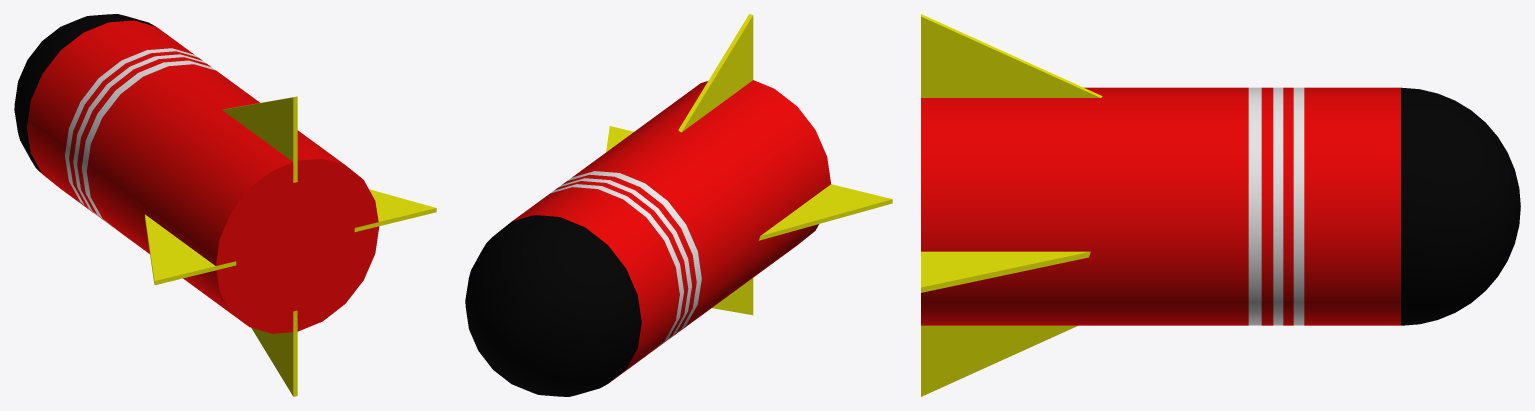
Rendered from missile.fbx.
The picture shows the model from 3 angles, left to right: view 1: azimuth 30°, elevation 25°; view 2: azimuth 150°, elevation 25°; view 3: azimuth 270°, elevation 25°; orthographic projection. The views are drawn at different scales.
Parts seen in each view (by area): view 1: group2_pasted__pPlane1; view 2: group2_pasted__pPlane1; view 3: group2_pasted__pPlane1.
Part boxes in pixels (bbox=[...]): group2_pasted__pPlane1: bbox=[14, 14, 436, 396]; group2_pasted__pPlane1: bbox=[465, 14, 892, 396]; group2_pasted__pPlane1: bbox=[921, 14, 1520, 396].
Bounding box in the file's own units: 3.45 × 3.5 × 5.
